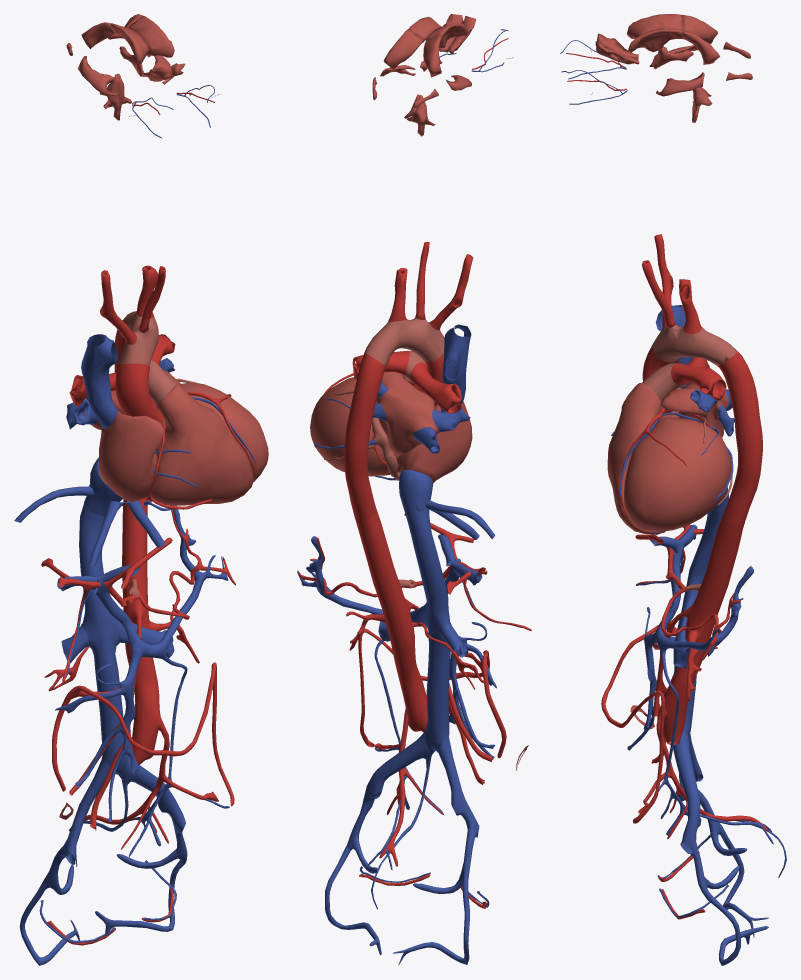
The model's file is adult_female.cardiovascular.LOD2.glb.
The picture shows the model from 3 angles, left to right: view 1: azimuth 30°, elevation 25°; view 2: azimuth 150°, elevation 25°; view 3: azimuth 270°, elevation 25°; orthographic projection. The views are drawn at different scales.
Parts seen in each view (by area): view 1: ADULT.FEMALE.CARDIOVASCULAR.RIGHT_VENTRICLE, ADULT.FEMALE.CARDIOVASCULAR.INFERIOR_VENA_CAVA_B, ADULT.FEMALE.CARDIOVASCULAR.DESCENDING_AORTA_B, ADULT.FEMALE.CARDIOVASCULAR.RIGHT_CARDIAC_ATRIUM, ADULT.FEMALE.CARDIOVASCULAR.SUPERIOR_VENA_CAVA, ADULT.FEMALE.CARDIOVASCULAR.LEFT_VENTRICLE, ADULT.FEMALE.CARDIOVASCULAR.MARGINAL_ARTERY_OF_DRUMMOND, ADULT.FEMALE.CARDIOVASCULAR.ASCENDING_AORTA, ADULT.FEMALE.CARDIOVASCULAR.SPLENIC_VEIN, ADULT.FEMALE.CARDIOVASCULAR.ANTERIOR_HORN_OF_LATERAL_VENTRIC (×2), ADULT.FEMALE.CARDIOVASCULAR.AORTIC_ARCH, ADULT.FEMALE.CARDIOVASCULAR.COMMON_ILIAC_VEIN.L (+16 smaller); view 2: ADULT.FEMALE.CARDIOVASCULAR.DESCENDING_AORTA_B, ADULT.FEMALE.CARDIOVASCULAR.INFERIOR_VENA_CAVA_B, ADULT.FEMALE.CARDIOVASCULAR.DESCENDING_AORTA_A, ADULT.FEMALE.CARDIOVASCULAR.LEFT_CARDIAC_ATRIUM, ADULT.FEMALE.CARDIOVASCULAR.LEFT_VENTRICLE, ADULT.FEMALE.CARDIOVASCULAR.RIGHT_CARDIAC_ATRIUM, ADULT.FEMALE.CARDIOVASCULAR.AORTIC_ARCH, ADULT.FEMALE.CARDIOVASCULAR.INFERIOR_VENA_CAVA_A, ADULT.FEMALE.CARDIOVASCULAR.COMMON_ILIAC_VEIN.L, ADULT.FEMALE.CARDIOVASCULAR.SUPERIOR_VENA_CAVA, ADULT.FEMALE.CARDIOVASCULAR.MARGINAL_ARTERY_OF_DRUMMOND, ADULT.FEMALE.CARDIOVASCULAR.PULMONARY_ARTERY.R (+11 smaller); view 3: ADULT.FEMALE.CARDIOVASCULAR.LEFT_VENTRICLE, ADULT.FEMALE.CARDIOVASCULAR.DESCENDING_AORTA_B, ADULT.FEMALE.CARDIOVASCULAR.DESCENDING_AORTA_A, ADULT.FEMALE.CARDIOVASCULAR.RIGHT_VENTRICLE, ADULT.FEMALE.CARDIOVASCULAR.AORTIC_ARCH, ADULT.FEMALE.CARDIOVASCULAR.INFERIOR_VENA_CAVA_B, ADULT.FEMALE.CARDIOVASCULAR.COMMON_ILIAC_VEIN.L, ADULT.FEMALE.CARDIOVASCULAR.ANTERIOR_HORN_OF_LATERAL_VENTRIC (×2), ADULT.FEMALE.CARDIOVASCULAR.MARGINAL_ARTERY_OF_DRUMMOND, ADULT.FEMALE.CARDIOVASCULAR.SPLENIC_VEIN, ADULT.FEMALE.CARDIOVASCULAR.LEFT_CARDIAC_ATRIUM, ADULT.FEMALE.CARDIOVASCULAR.PULMONARY_ARTERY.L (+13 smaller).
Boxes of the visible parts, left/top/right/bottom form: ADULT.FEMALE.CARDIOVASCULAR.RIGHT_VENTRICLE: left=147, top=384, right=253, bottom=505; ADULT.FEMALE.CARDIOVASCULAR.INFERIOR_VENA_CAVA_B: left=79, top=503, right=128, bottom=774; ADULT.FEMALE.CARDIOVASCULAR.DESCENDING_AORTA_B: left=122, top=498, right=160, bottom=764; ADULT.FEMALE.CARDIOVASCULAR.RIGHT_CARDIAC_ATRIUM: left=98, top=410, right=164, bottom=502; ADULT.FEMALE.CARDIOVASCULAR.SUPERIOR_VENA_CAVA: left=81, top=334, right=117, bottom=428; ADULT.FEMALE.CARDIOVASCULAR.LEFT_VENTRICLE: left=181, top=382, right=268, bottom=481; ADULT.FEMALE.CARDIOVASCULAR.MARGINAL_ARTERY_OF_DRUMMOND: left=52, top=662, right=234, bottom=806; ADULT.FEMALE.CARDIOVASCULAR.ASCENDING_AORTA: left=115, top=363, right=163, bottom=424; ADULT.FEMALE.CARDIOVASCULAR.SPLENIC_VEIN: left=132, top=505, right=228, bottom=659; ADULT.FEMALE.CARDIOVASCULAR.ANTERIOR_HORN_OF_LATERAL_VENTRIC (×2): left=110, top=15, right=174, bottom=64; ADULT.FEMALE.CARDIOVASCULAR.AORTIC_ARCH: left=118, top=311, right=158, bottom=366; ADULT.FEMALE.CARDIOVASCULAR.COMMON_ILIAC_VEIN.L: left=118, top=756, right=185, bottom=833; ADULT.FEMALE.CARDIOVASCULAR.DESCENDING_AORTA_B: left=355, top=510, right=427, bottom=732; ADULT.FEMALE.CARDIOVASCULAR.INFERIOR_VENA_CAVA_B: left=408, top=523, right=451, bottom=752; ADULT.FEMALE.CARDIOVASCULAR.DESCENDING_AORTA_A: left=344, top=352, right=385, bottom=520; ADULT.FEMALE.CARDIOVASCULAR.LEFT_CARDIAC_ATRIUM: left=376, top=372, right=439, bottom=455; ADULT.FEMALE.CARDIOVASCULAR.LEFT_VENTRICLE: left=310, top=377, right=394, bottom=476; ADULT.FEMALE.CARDIOVASCULAR.RIGHT_CARDIAC_ATRIUM: left=394, top=401, right=472, bottom=482; ADULT.FEMALE.CARDIOVASCULAR.AORTIC_ARCH: left=365, top=317, right=444, bottom=365; ADULT.FEMALE.CARDIOVASCULAR.INFERIOR_VENA_CAVA_A: left=399, top=469, right=433, bottom=524; ADULT.FEMALE.CARDIOVASCULAR.COMMON_ILIAC_VEIN.L: left=360, top=731, right=430, bottom=813; ADULT.FEMALE.CARDIOVASCULAR.SUPERIOR_VENA_CAVA: left=440, top=324, right=471, bottom=412; ADULT.FEMALE.CARDIOVASCULAR.MARGINAL_ARTERY_OF_DRUMMOND: left=358, top=628, right=506, bottom=758; ADULT.FEMALE.CARDIOVASCULAR.PULMONARY_ARTERY.R: left=410, top=362, right=461, bottom=413; ADULT.FEMALE.CARDIOVASCULAR.LEFT_VENTRICLE: left=624, top=417, right=731, bottom=531; ADULT.FEMALE.CARDIOVASCULAR.DESCENDING_AORTA_B: left=663, top=514, right=744, bottom=745; ADULT.FEMALE.CARDIOVASCULAR.DESCENDING_AORTA_A: left=717, top=352, right=762, bottom=525; ADULT.FEMALE.CARDIOVASCULAR.RIGHT_VENTRICLE: left=607, top=383, right=665, bottom=534; ADULT.FEMALE.CARDIOVASCULAR.AORTIC_ARCH: left=652, top=324, right=737, bottom=365; ADULT.FEMALE.CARDIOVASCULAR.INFERIOR_VENA_CAVA_B: left=674, top=496, right=728, bottom=738; ADULT.FEMALE.CARDIOVASCULAR.COMMON_ILIAC_VEIN.L: left=673, top=731, right=701, bottom=853; ADULT.FEMALE.CARDIOVASCULAR.ANTERIOR_HORN_OF_LATERAL_VENTRIC (×2): left=627, top=14, right=683, bottom=52; ADULT.FEMALE.CARDIOVASCULAR.MARGINAL_ARTERY_OF_DRUMMOND: left=601, top=625, right=677, bottom=823; ADULT.FEMALE.CARDIOVASCULAR.SPLENIC_VEIN: left=655, top=567, right=753, bottom=656; ADULT.FEMALE.CARDIOVASCULAR.LEFT_CARDIAC_ATRIUM: left=661, top=384, right=728, bottom=437; ADULT.FEMALE.CARDIOVASCULAR.PULMONARY_ARTERY.L: left=671, top=363, right=726, bottom=400.
Bounding box in the file's own units: 0.1971 × 0.8286 × 0.1849.
